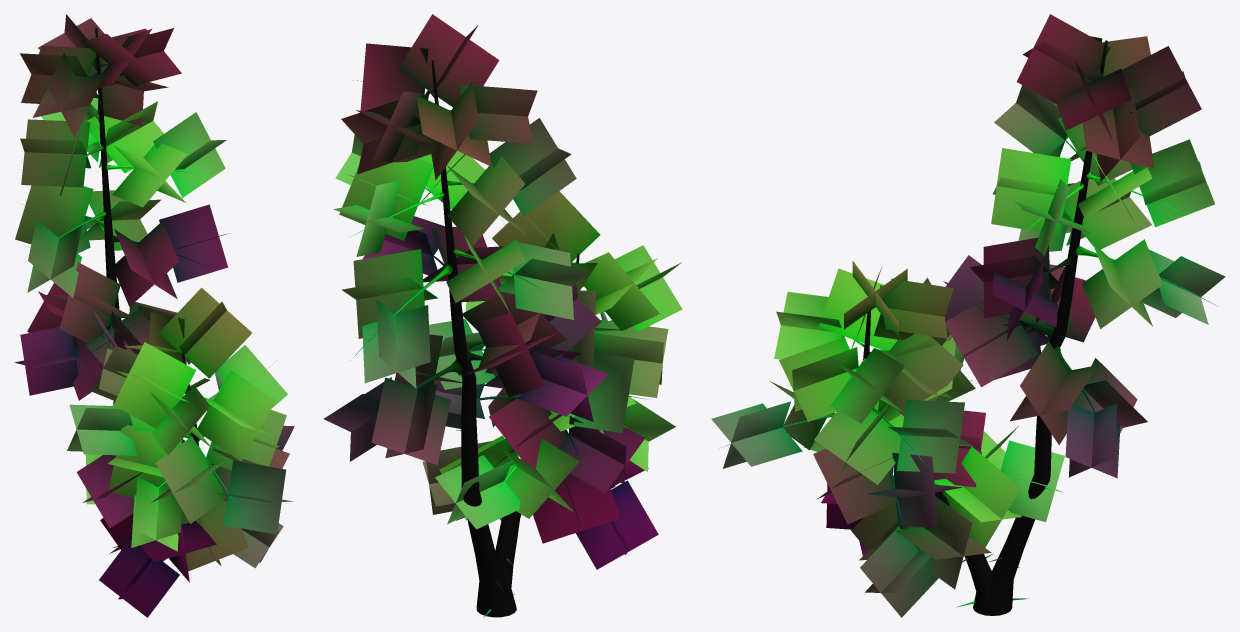
File: M_P7_Tree_8.fbx
3 renders of one model, left to right at view 1: azimuth 30°, elevation 25°; view 2: azimuth 150°, elevation 25°; view 3: azimuth 270°, elevation 25°, orthographic. The views are drawn at different scales.
Parts seen in each view (by area): view 1: Tree_8; view 2: Tree_8; view 3: Tree_8.
Part boxes in pixels (box(x1,y1,x2,y2)): Tree_8: box(14, 14, 294, 617); Tree_8: box(324, 14, 682, 617); Tree_8: box(711, 14, 1225, 617).
Size of the model in its own units: 236 by 555 by 440.
